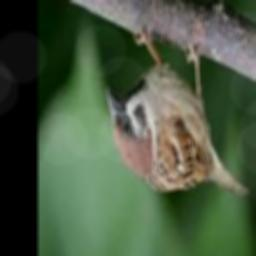Sparrow: (107, 28, 250, 198)
